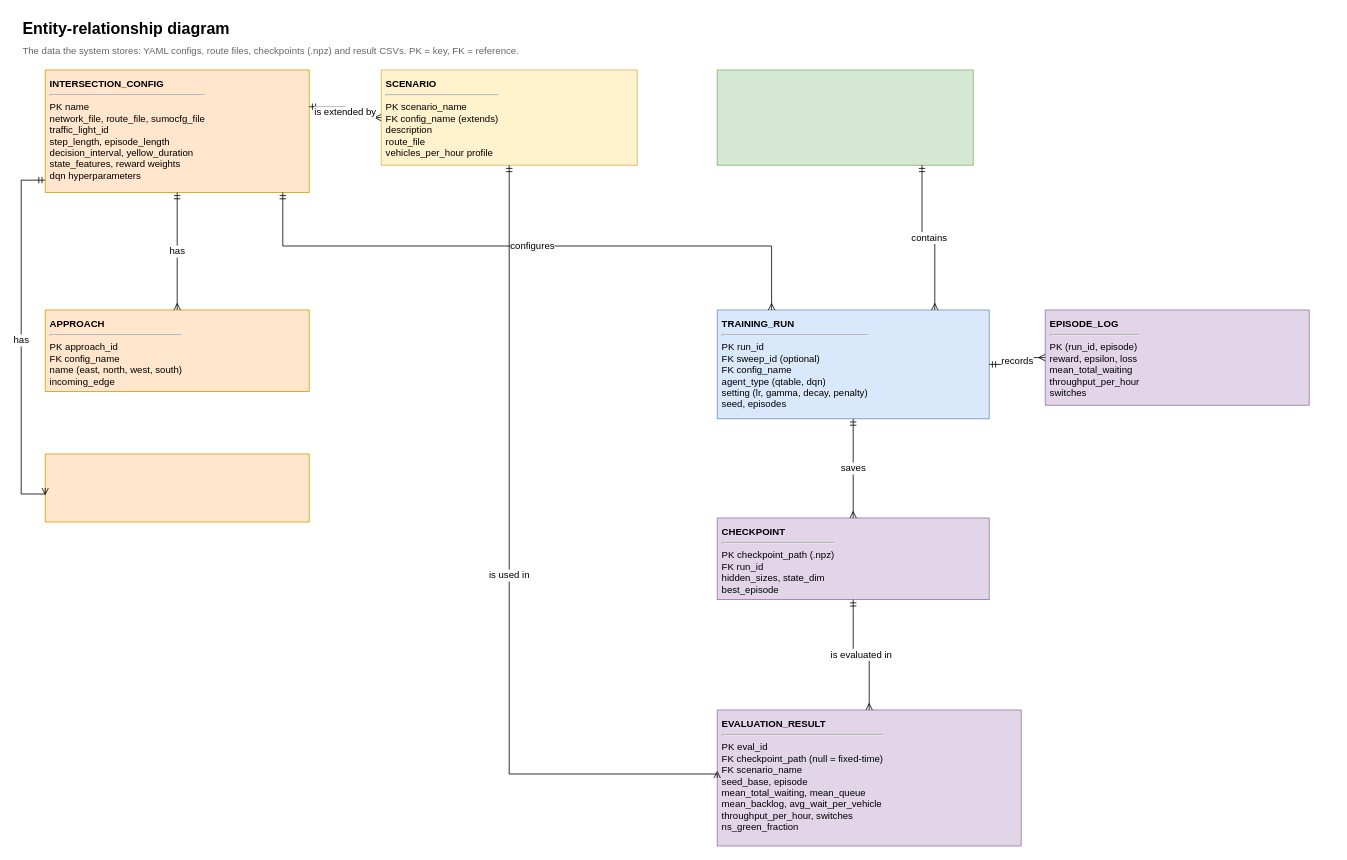
Image size: 1347x860. Some labels were removed from this diagram. The shapes that lost their labels are listed below. From the top down, each one's box as (x1, y1, x2, y2) in pixels, then its label:
(716, 69, 973, 165): SWEEP PK sweep_id grid (setting -> values) seeds episodes, eval_episodes out_dir
(44, 453, 309, 522): PHASE PK phase_index FK config_name name (north_south_green, ...)
